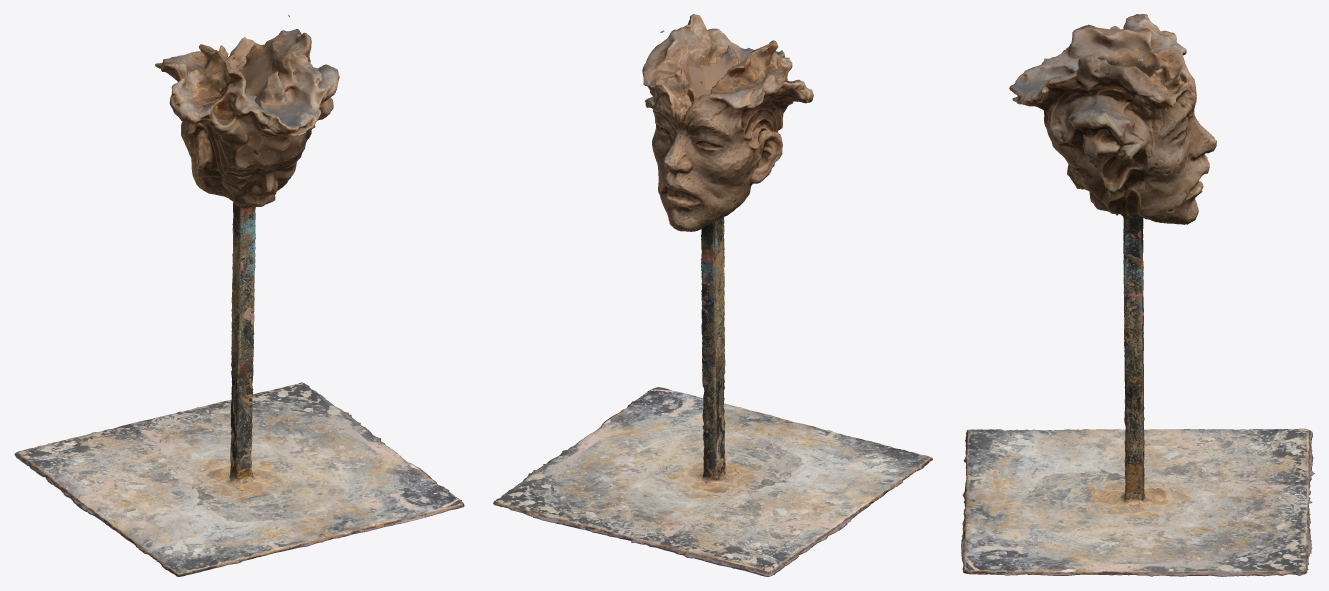
Rendered from blownhead.glb.
3 renders of one model, left to right at view 1: azimuth 30°, elevation 25°; view 2: azimuth 150°, elevation 25°; view 3: azimuth 270°, elevation 25°, orthographic. The views are drawn at different scales.
Parts seen in each view (by area): view 1: Mesh_0_Part_0; view 2: Mesh_0_Part_0; view 3: Mesh_0_Part_0.
Boxes of the visible parts, left/top/right/bottom form: Mesh_0_Part_0: left=14, top=14, right=464, bottom=576; Mesh_0_Part_0: left=493, top=14, right=932, bottom=576; Mesh_0_Part_0: left=961, top=14, right=1314, bottom=576.
Size of the model in its own units: 3.69 by 5.41 by 3.68.
Materials: 1 (1 with a texture image).
